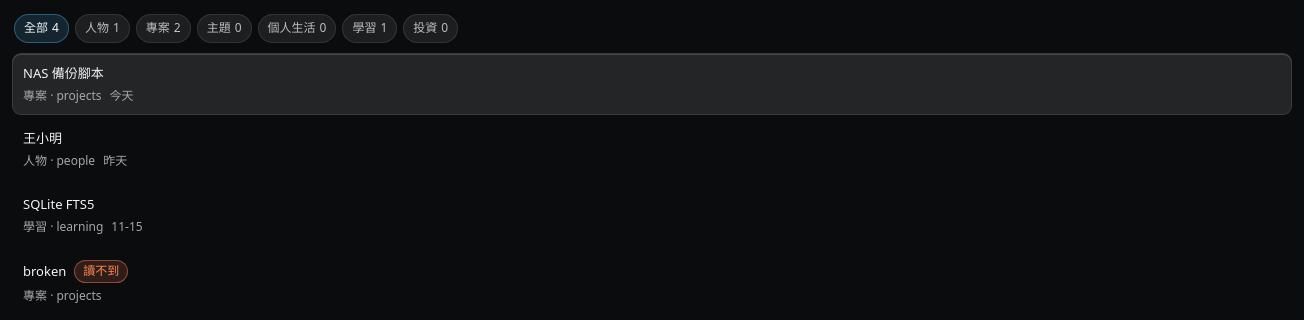
Test: a category without pages can be chosen and says so
Click the radio button labelled "主題 0" at point(224, 28), box top-left (197, 14), bottom-right (252, 43)
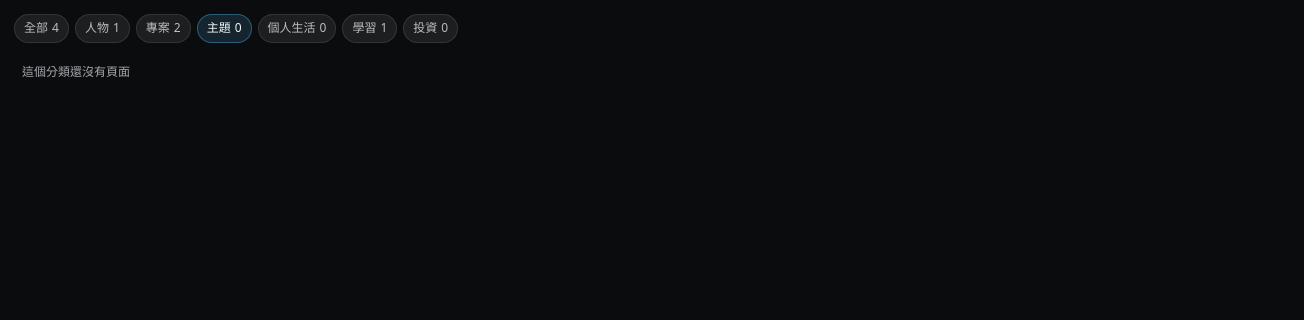
Result: no list items are shown
Result: the text with class "wiki-list-note" reads "這個分類還沒有頁面" at top-left (22, 63), bottom-right (130, 80)
